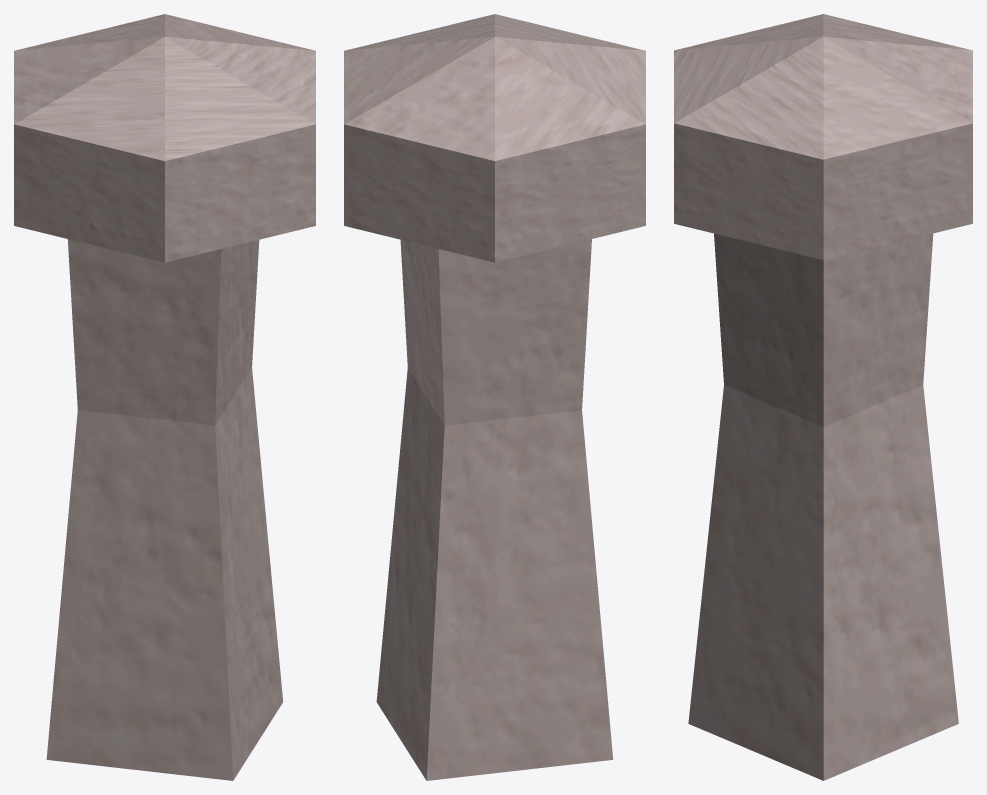
The model's file is ZiersäuleKlein [Grau]_1814.glb.
3 renders of one model, left to right at view 1: azimuth 30°, elevation 25°; view 2: azimuth 150°, elevation 25°; view 3: azimuth 270°, elevation 25°, orthographic.
Parts seen in each view (by area): view 1: pCylinderShape22, pSphereShape19; view 2: pCylinderShape22, pSphereShape19; view 3: pCylinderShape22, pSphereShape19.
Boxes of the visible parts, x1,y1,x2,y2 form: pCylinderShape22: (46,239,283,780); pSphereShape19: (14,14,315,262); pCylinderShape22: (376,239,613,780); pSphereShape19: (344,14,645,262); pCylinderShape22: (688,233,958,780); pSphereShape19: (674,14,972,260).
Size of the model in its own units: 0.0818 by 0.1797 by 0.0708.
Materials: 2 (2 with a texture image).
